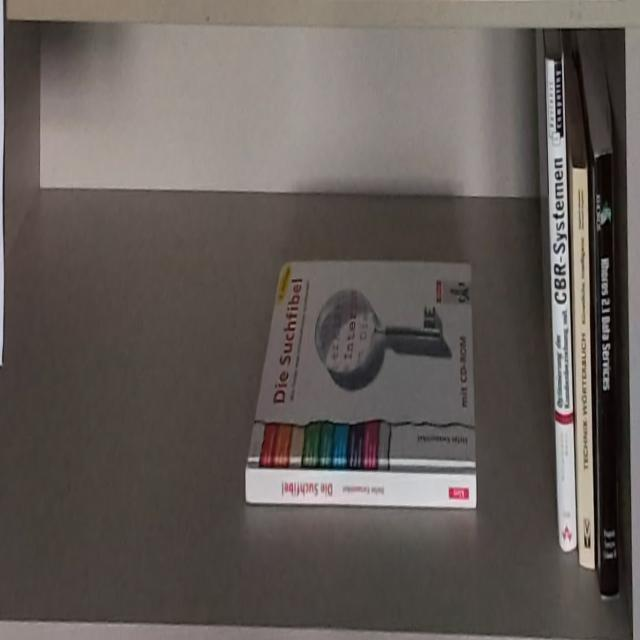Book Spine: (546, 55, 577, 552), (593, 141, 619, 604), (571, 164, 595, 574), (246, 471, 477, 507)
